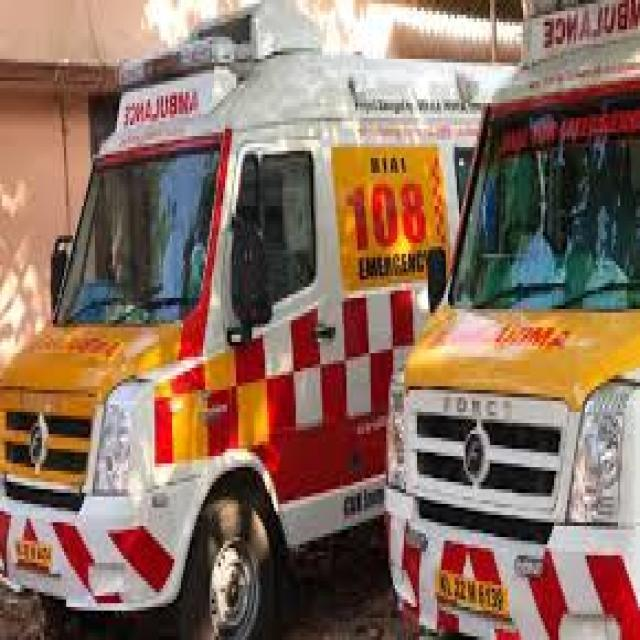ambulance: (0, 0, 382, 640), (383, 0, 640, 640)
